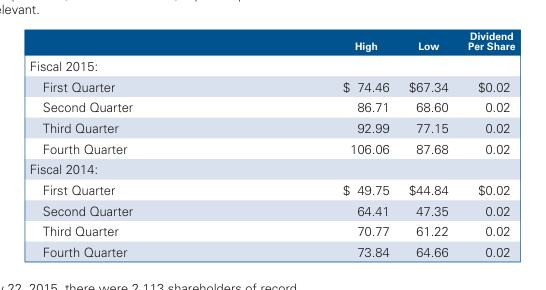table: (28, 29, 514, 259)
table column: (28, 29, 237, 259), (237, 29, 398, 259), (398, 29, 457, 259), (457, 29, 514, 259)
table column header: (28, 29, 514, 54)
table projected row header: (28, 54, 514, 75), (28, 158, 514, 179)
table row: (28, 29, 514, 54), (28, 54, 514, 75), (28, 75, 514, 96), (28, 96, 514, 117), (28, 137, 514, 158), (28, 158, 514, 179), (28, 199, 514, 220), (28, 220, 514, 241), (28, 117, 514, 137), (28, 179, 514, 199), (28, 241, 514, 259)
